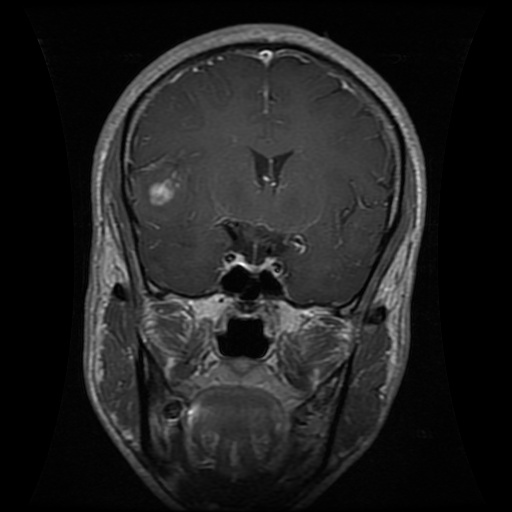glioma: (132, 152, 195, 209)
